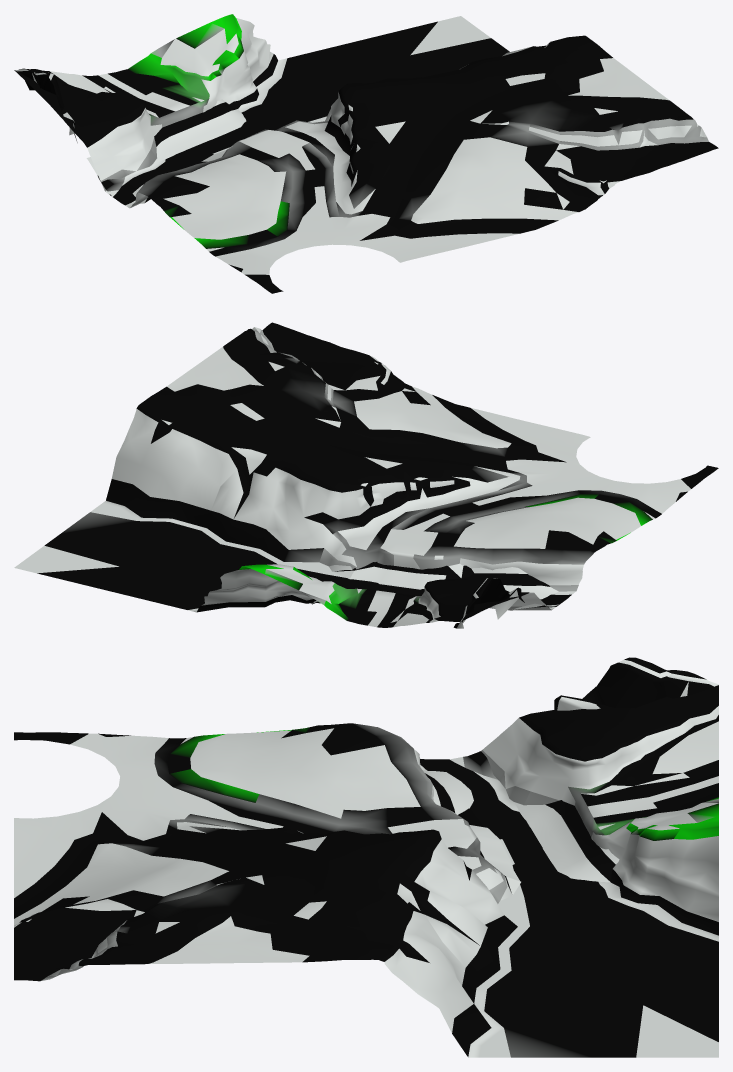
The picture shows the model from 3 angles, top to bottom: view 1: azimuth 30°, elevation 25°; view 2: azimuth 150°, elevation 25°; view 3: azimuth 270°, elevation 25°; orthographic projection. The views are drawn at different scales.
Parts seen in each view (by area): view 1: G:\FFXIV-MapTools\exports\k5f1\bg\ex4\03_kld_k5\fld\k5f1\bgp (×13); view 2: G:\FFXIV-MapTools\exports\k5f1\bg\ex4\03_kld_k5\fld\k5f1\bgp (×15); view 3: G:\FFXIV-MapTools\exports\k5f1\bg\ex4\03_kld_k5\fld\k5f1\bgp (×14).
Part boxes in pixels (x1,y1,x2,y2): G:\FFXIV-MapTools\exports\k5f1\bg\ex4\03_kld_k5\fld\k5f1\bgp (×13): (14, 14, 718, 293); G:\FFXIV-MapTools\exports\k5f1\bg\ex4\03_kld_k5\fld\k5f1\bgp (×15): (14, 322, 718, 628); G:\FFXIV-MapTools\exports\k5f1\bg\ex4\03_kld_k5\fld\k5f1\bgp (×14): (14, 657, 718, 1057).
Bounding box in the file's own units: 128 × 22.84 × 128.
